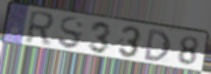3: (114, 26, 145, 60), (88, 21, 113, 55)
8: (177, 35, 201, 67)
D: (144, 28, 173, 63)
R: (23, 9, 57, 49)
S: (56, 16, 85, 51)
